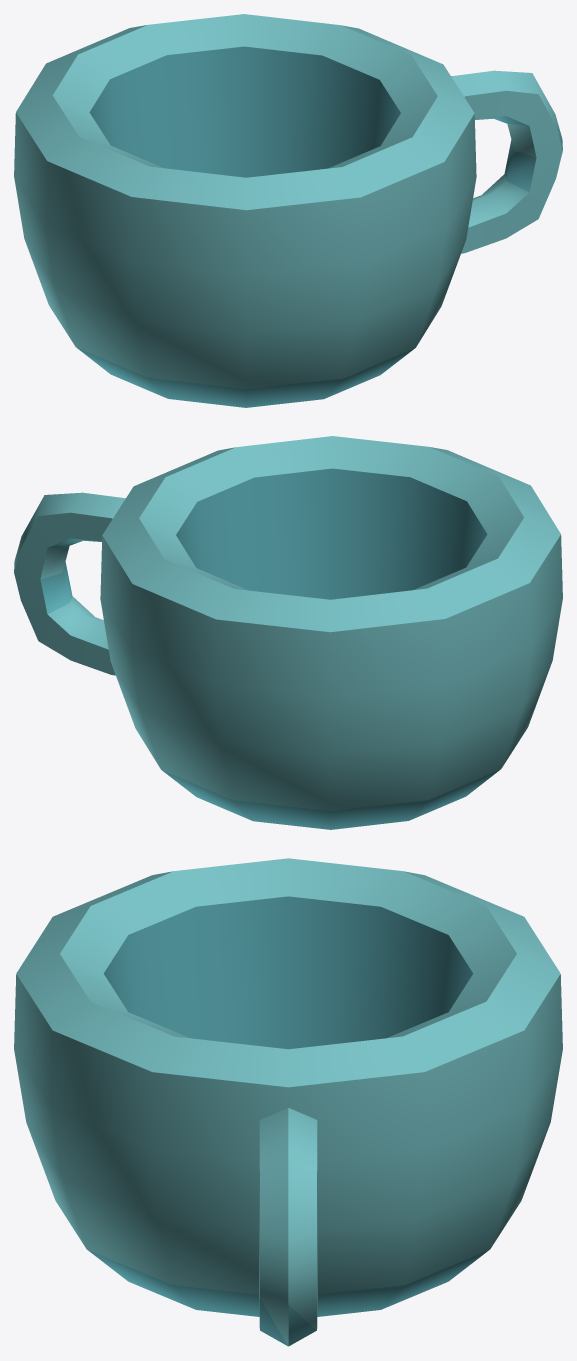
The model's file is itch_tiny_pleasant_picnic_mug.glb.
The picture shows the model from 3 angles, top to bottom: view 1: azimuth 30°, elevation 25°; view 2: azimuth 150°, elevation 25°; view 3: azimuth 270°, elevation 25°; orthographic projection. The views are drawn at different scales.
Visible parts, largest first — view 1: mug; view 2: mug; view 3: mug.
Boxes of the visible parts, left/top/right/bottom form: mug: left=14, top=14, right=562, bottom=407; mug: left=14, top=436, right=562, bottom=829; mug: left=14, top=858, right=562, bottom=1346.
Bounding box in the file's own units: 0.42 × 0.1909 × 0.3284.
